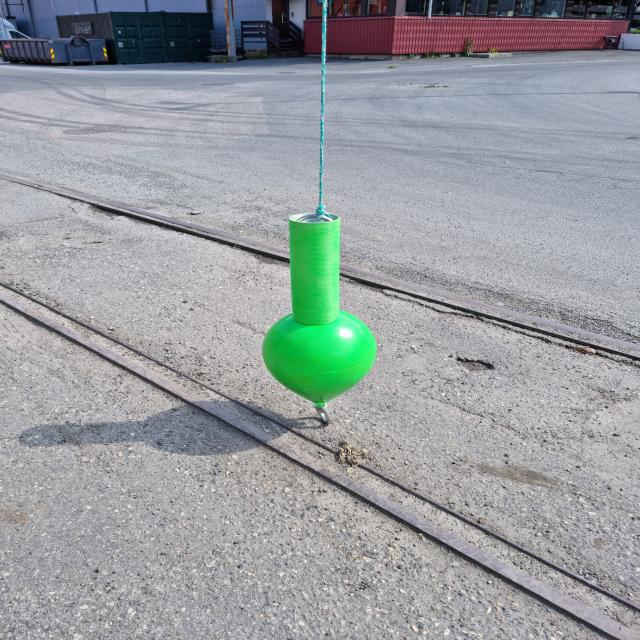green: (261, 210, 376, 405)
